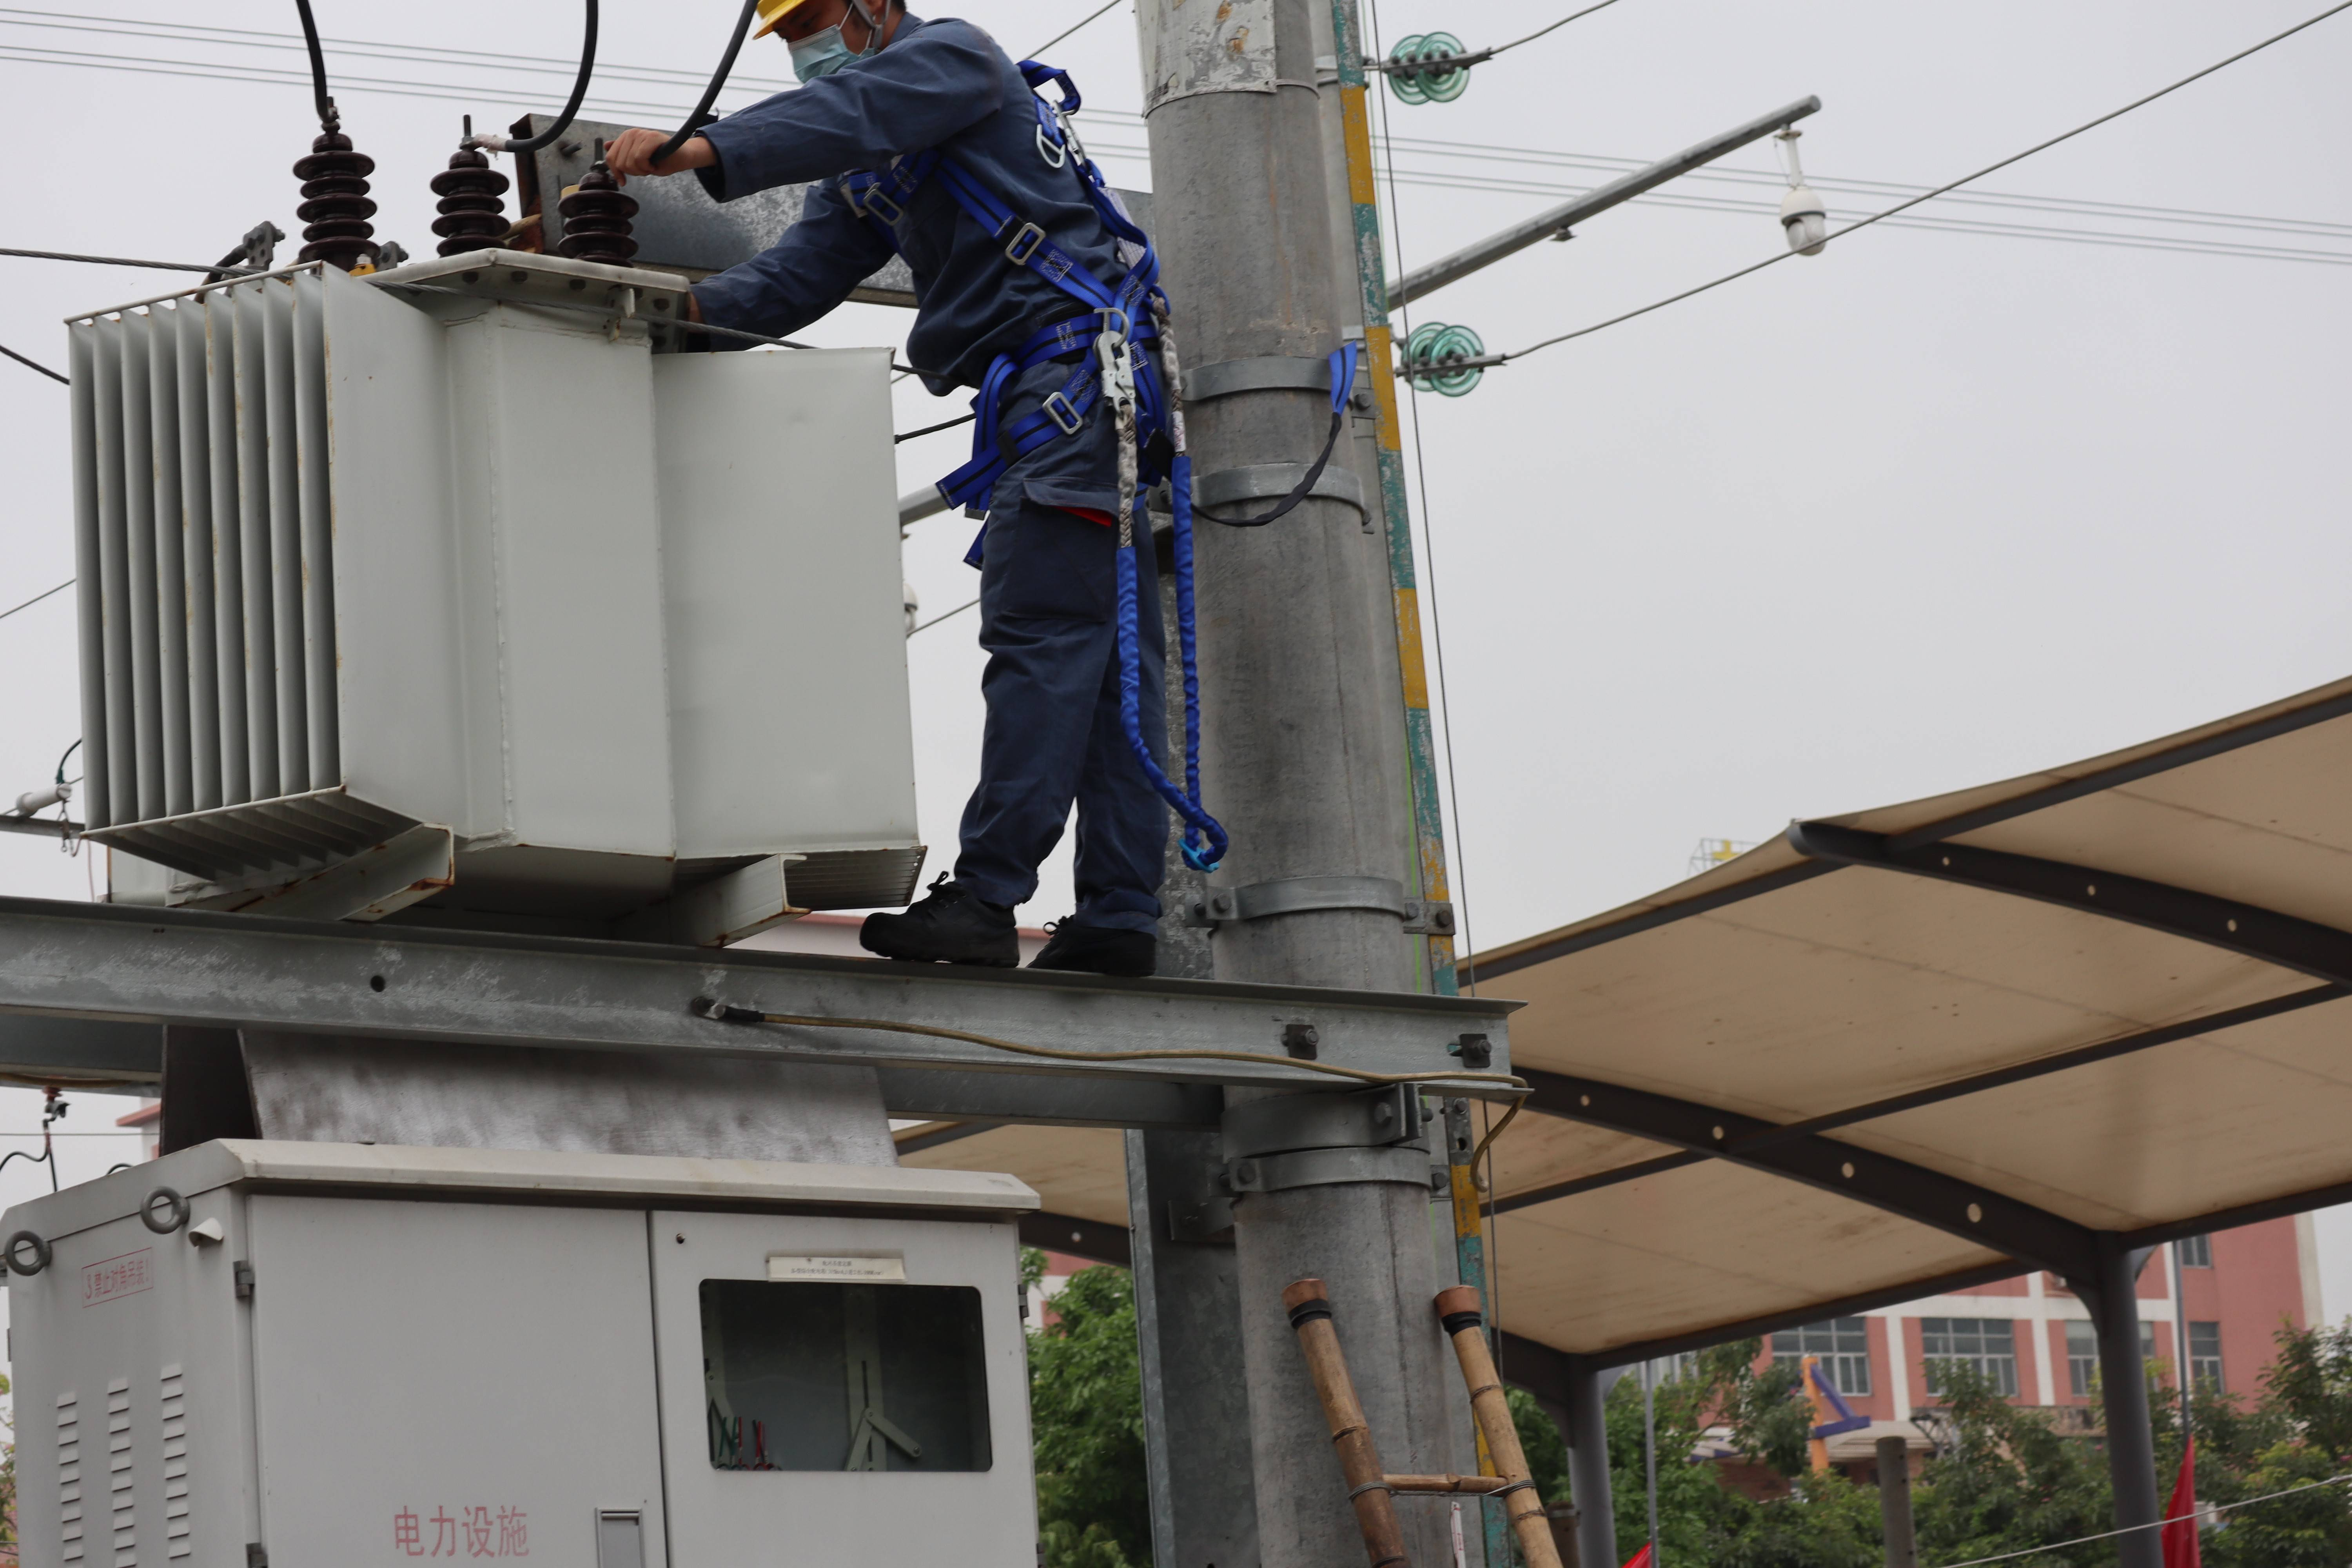downsuit: (936, 350, 1208, 933)
upsuit: (675, 16, 1174, 362)
